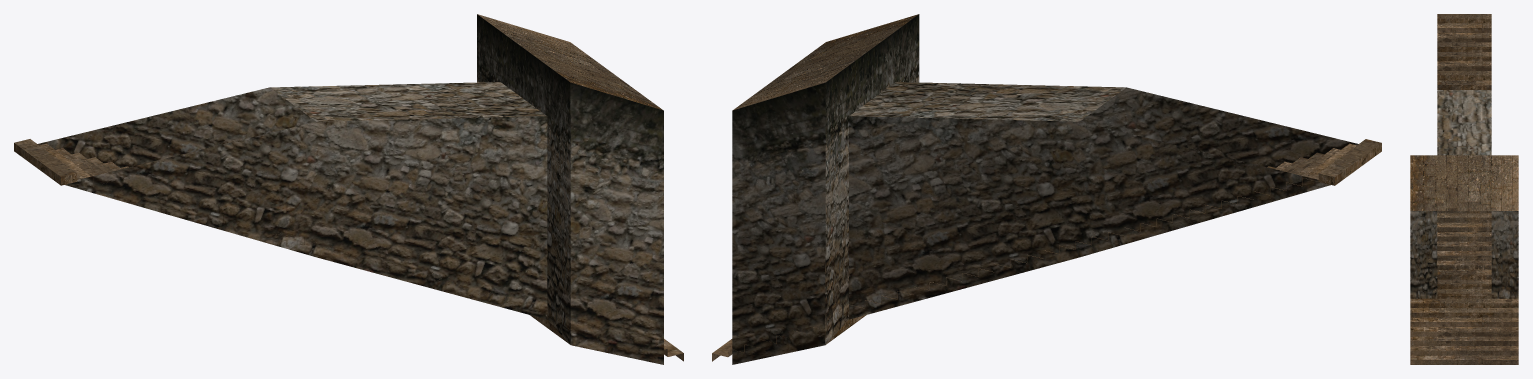
The model's file is Stair.FBX.
The picture shows the model from 3 angles, left to right: view 1: azimuth 30°, elevation 25°; view 2: azimuth 150°, elevation 25°; view 3: azimuth 270°, elevation 25°; orthographic projection. The views are drawn at different scales.
Visible parts, largest first — view 1: ramp, stair_002; view 2: ramp, stair_002; view 3: stair_002, ramp.
Part boxes in pixels (x1=…): ramp: x1=38, y1=14, x2=663, y2=364; stair_002: x1=14, y1=139, x2=683, y2=361; ramp: x1=732, y1=14, x2=1358, y2=364; stair_002: x1=712, y1=139, x2=1381, y2=361; stair_002: x1=1410, y1=14, x2=1518, y2=364; ramp: x1=1410, y1=90, x2=1518, y2=298.
Bounding box in the file's own units: 1480 × 400 × 740.
